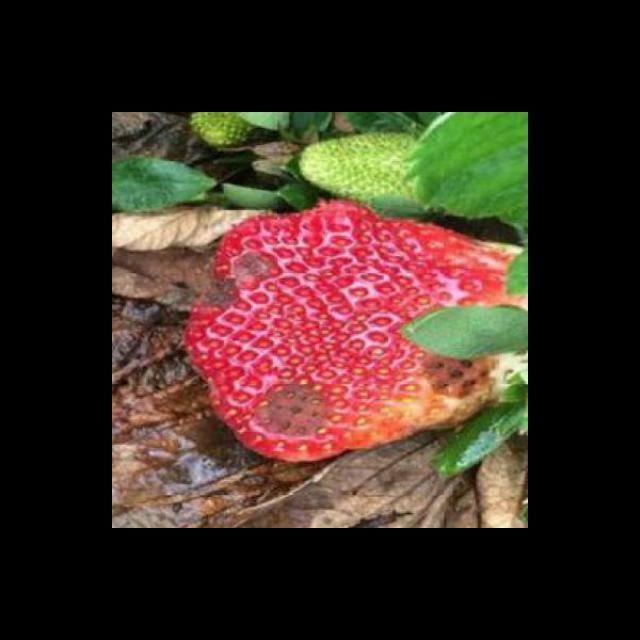Anthracnose Fruit Rot: (408, 348, 500, 407), (248, 381, 334, 441), (199, 250, 273, 311)
